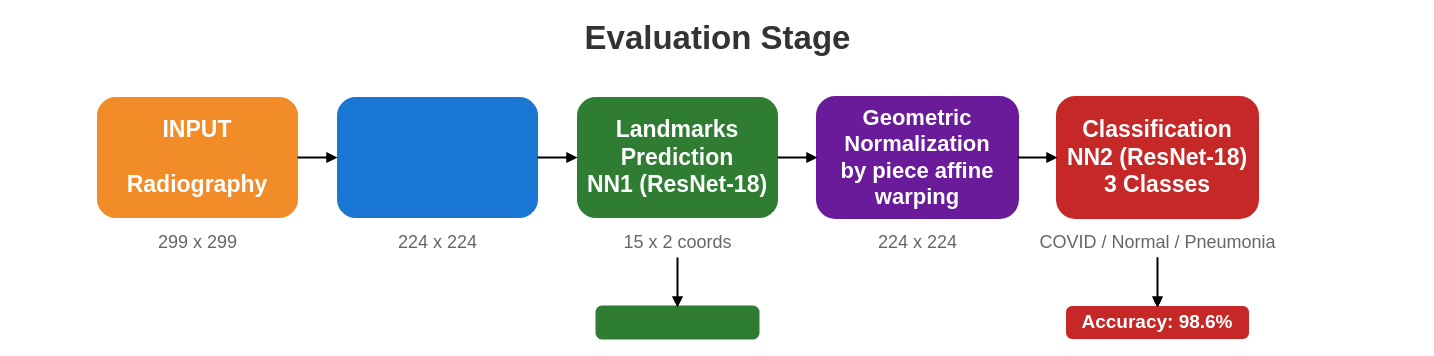
Image size: 1434x356. Some labels were removed from this diagram. Each missing label, with the centre of its shape:
"Error: 3.61 px" goes at [677,322].
"Preprocessing Resize CLAHE Normalization" goes at [437,157].
